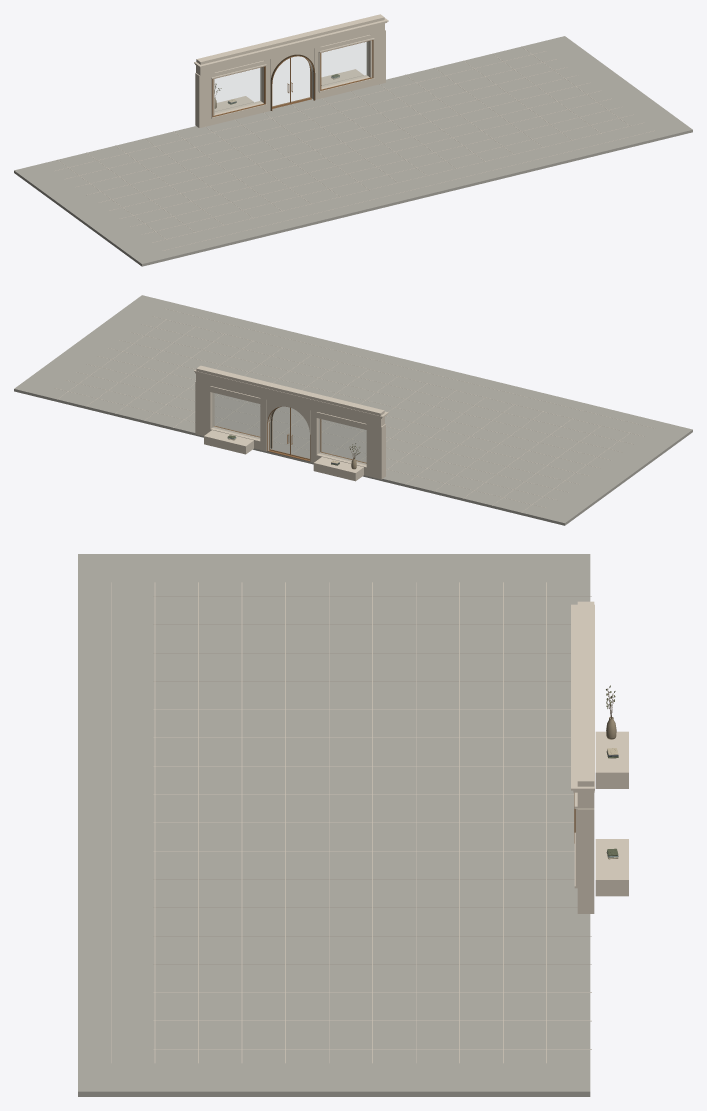
The model's file is mf_facade.glb.
The picture shows the model from 3 angles, top to bottom: view 1: azimuth 30°, elevation 25°; view 2: azimuth 150°, elevation 25°; view 3: azimuth 270°, elevation 25°; orthographic projection. The views are drawn at different scales.
Visible parts, largest first — view 1: mf_facade, door-right, door-left; view 2: mf_facade, door-right, door-left; view 3: mf_facade.
Part boxes in pixels (<box>): mf_facade: <box>14,14,692,266</box>; door-right: <box>290,56,311,103</box>; door-left: <box>272,58,290,107</box>; mf_facade: <box>14,295,692,525</box>; door-right: <box>269,407,290,454</box>; door-left: <box>290,408,309,459</box>; mf_facade: <box>78,554,628,1096</box>.
Bounding box in the file's own units: 38 × 4.53 × 16.45.
